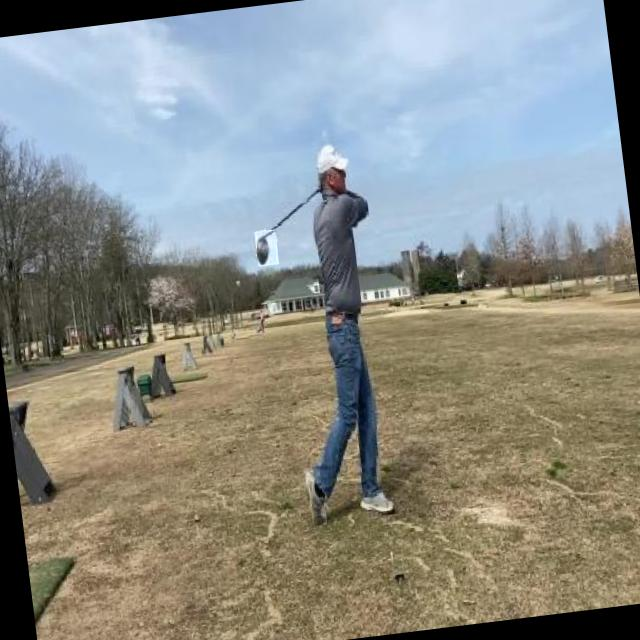club head: (254, 229, 279, 266)
